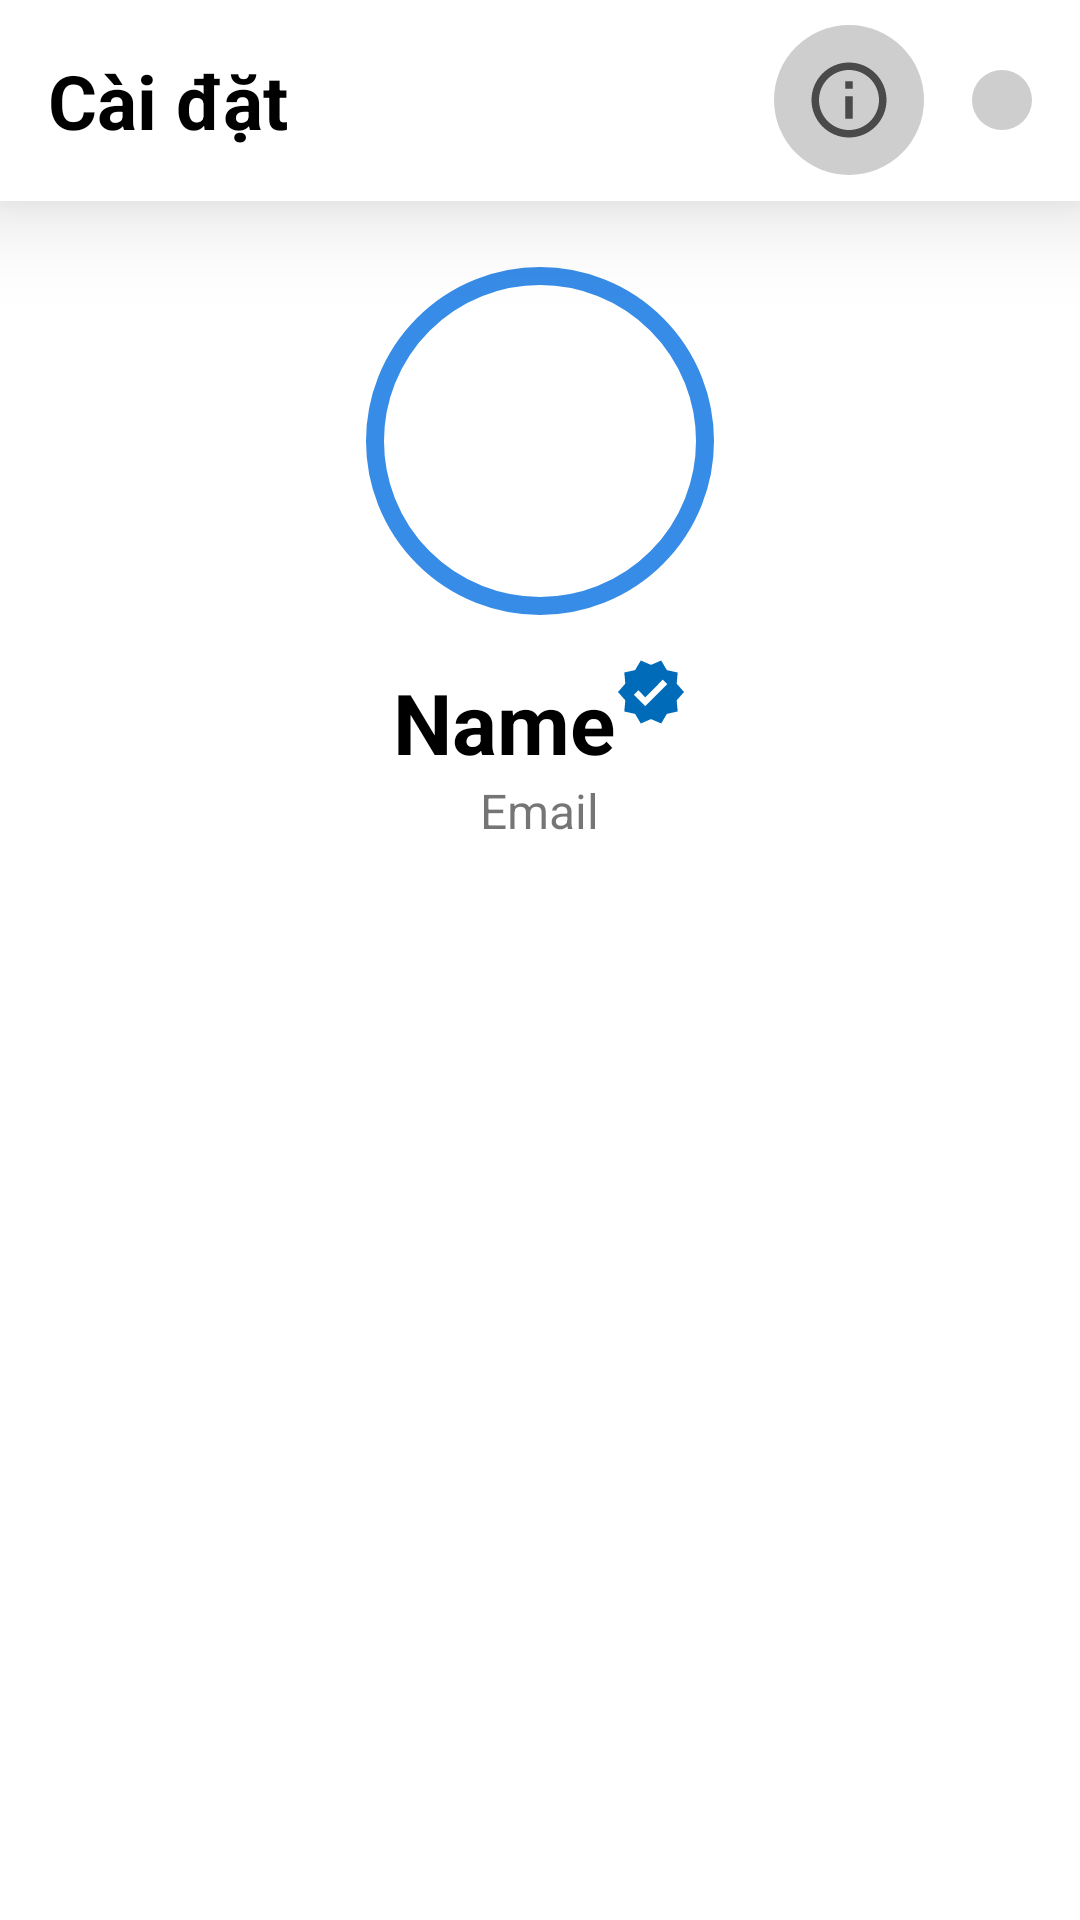

Where to tap for icons on this 1080 x 1920 app screen, as (x=x, y=y):
information line: (x=849, y=100)
verified: (x=651, y=692)
